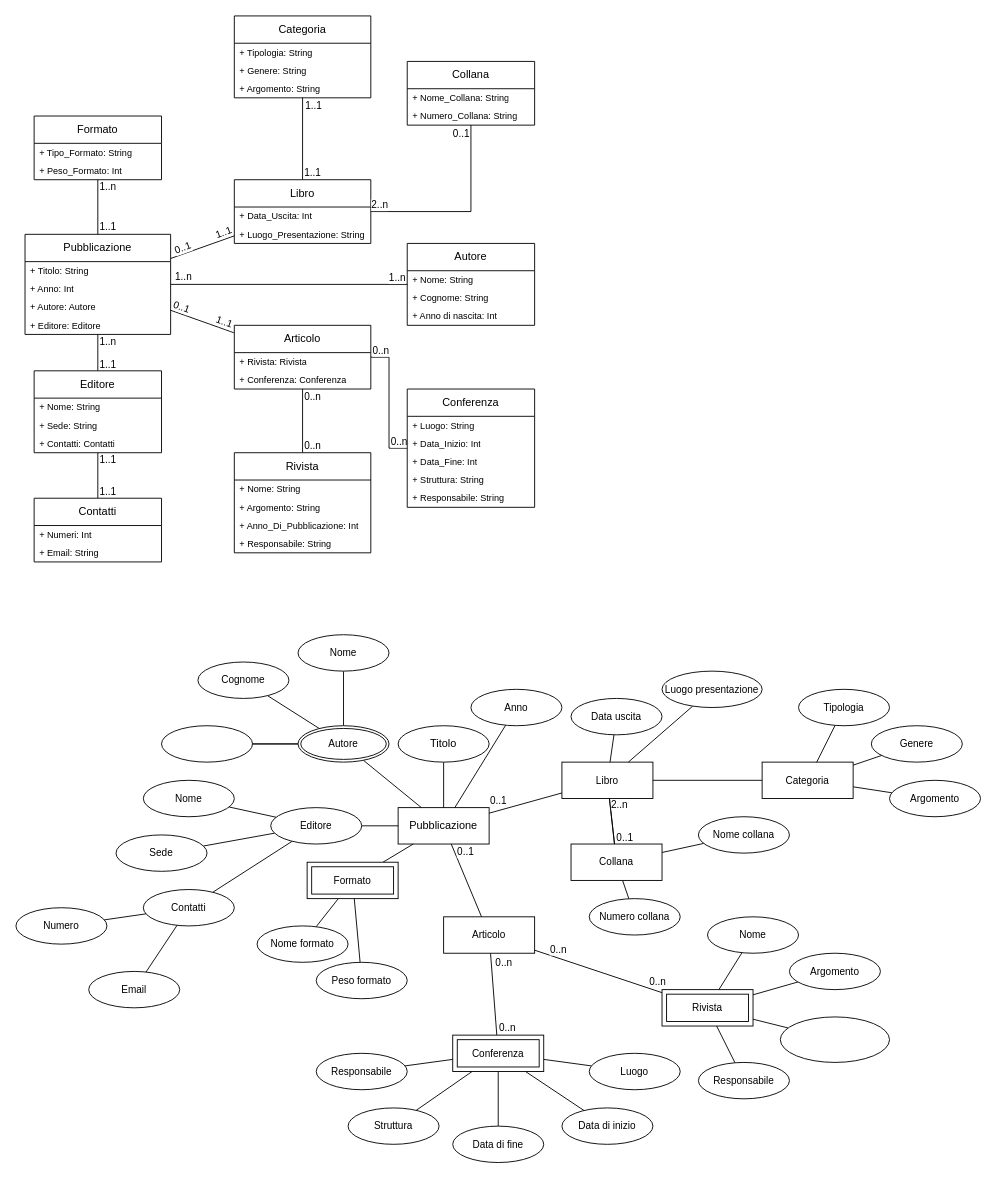
Some shapes in this 996 by 1178 pixel diagram are drawn without their labels. The shapes that lost their labels are listed below. From the top down, each one's centre as x and y in pixels, then its label:
the point at 207,743: Anno di nascita
the point at 834,1039: Anno di pubblicazione
